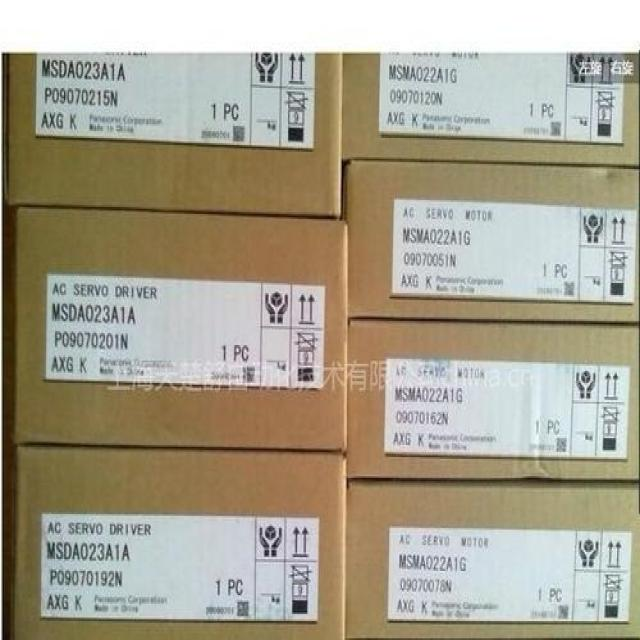box: (12, 207, 346, 450), (12, 447, 345, 638), (0, 54, 344, 222), (343, 162, 639, 321), (347, 323, 639, 483), (344, 482, 639, 638), (343, 53, 639, 167)
